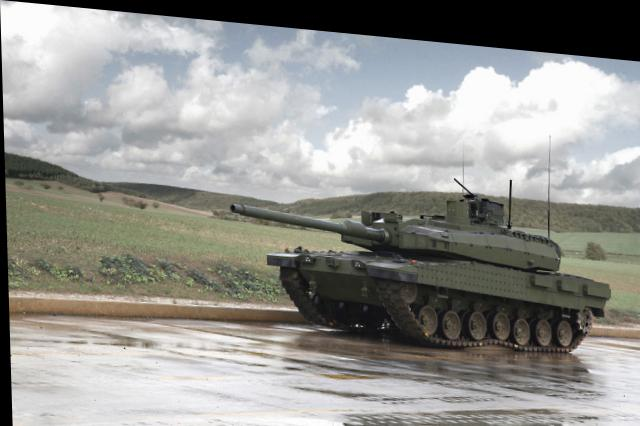tank: (263, 161, 613, 352)
